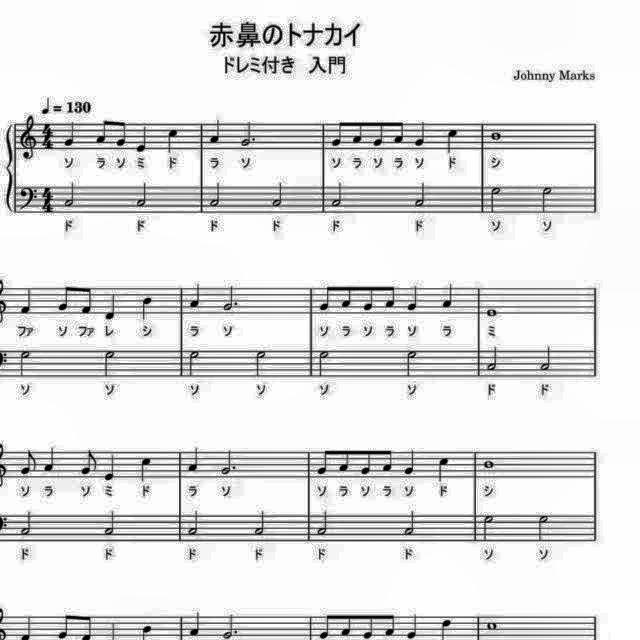Bass-clef: (17, 183, 39, 213)
Eighth-note: (79, 447, 101, 478), (17, 446, 38, 478), (54, 281, 74, 313), (319, 280, 337, 314), (330, 118, 348, 150), (359, 282, 376, 314), (78, 284, 94, 318), (359, 611, 377, 640), (113, 118, 129, 150), (358, 445, 374, 477), (318, 443, 334, 475), (372, 116, 388, 148), (339, 610, 356, 640), (55, 612, 73, 640), (318, 611, 335, 640), (338, 445, 354, 475), (94, 117, 110, 147), (340, 281, 356, 311), (382, 282, 398, 310), (350, 118, 366, 146), (380, 446, 396, 474), (382, 611, 397, 640), (392, 118, 406, 146)
Full-note: (484, 618, 501, 634), (488, 128, 504, 144), (484, 306, 501, 320), (482, 457, 498, 471)
Half-dot: (217, 446, 239, 478), (220, 282, 240, 314), (238, 118, 258, 150), (221, 611, 241, 640)
Half-note: (484, 343, 504, 375), (100, 346, 120, 378), (532, 512, 552, 544), (536, 184, 556, 216), (536, 342, 556, 373), (100, 508, 120, 538), (402, 507, 422, 537), (316, 507, 336, 537), (487, 184, 505, 216), (481, 511, 499, 543), (405, 348, 423, 380), (317, 347, 335, 379), (15, 346, 32, 378), (134, 181, 152, 211), (328, 181, 346, 211), (185, 508, 203, 538), (413, 181, 431, 211), (251, 509, 269, 539), (252, 346, 268, 378), (62, 178, 78, 210), (208, 181, 225, 211), (186, 347, 202, 378), (18, 507, 34, 537), (270, 181, 286, 211)
Quarter-note: (102, 290, 120, 322), (17, 286, 35, 318), (412, 118, 430, 150), (102, 451, 120, 483), (41, 445, 59, 475), (184, 444, 202, 474), (440, 280, 458, 310), (402, 446, 420, 476), (434, 456, 452, 486), (444, 126, 462, 156), (134, 124, 150, 156), (185, 609, 202, 639), (206, 118, 224, 146), (405, 612, 423, 640), (138, 294, 156, 322), (63, 119, 79, 149), (406, 282, 422, 312), (186, 282, 202, 312), (165, 126, 181, 156), (138, 453, 154, 483)
Treble-clef: (20, 114, 40, 162)
